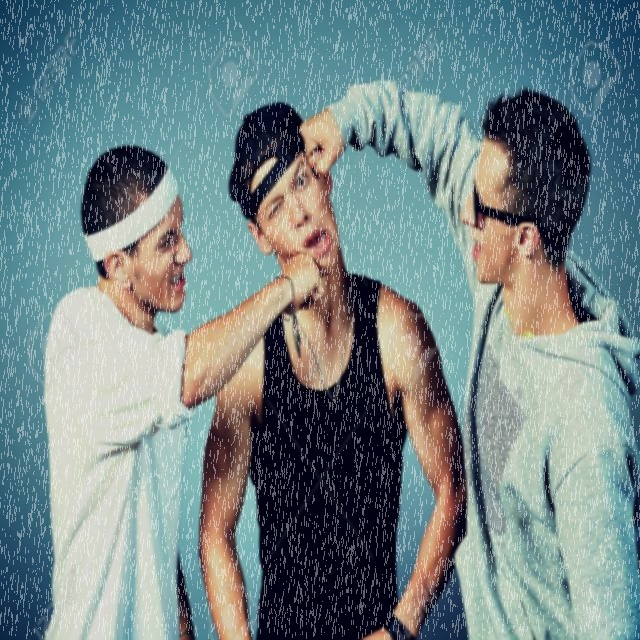pessoa: (301, 76, 638, 639), (190, 98, 478, 640), (42, 144, 324, 638)
